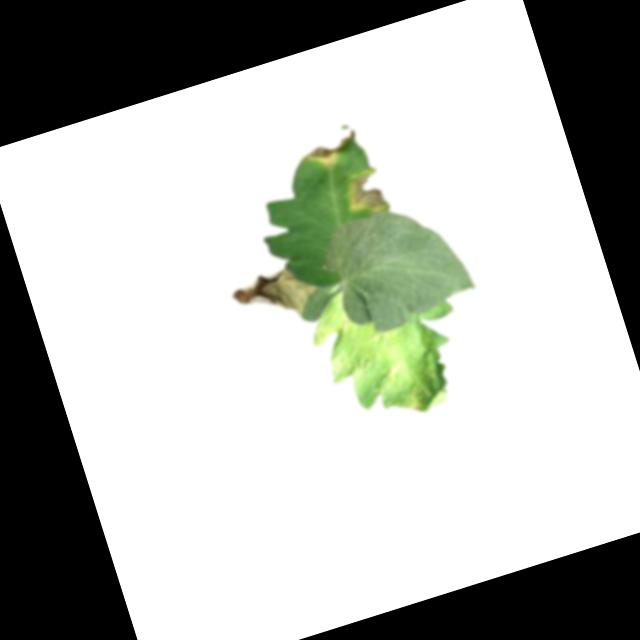Late_blight: (226, 258, 325, 338), (301, 122, 364, 172), (339, 165, 393, 220), (401, 383, 431, 416), (380, 357, 408, 386)
